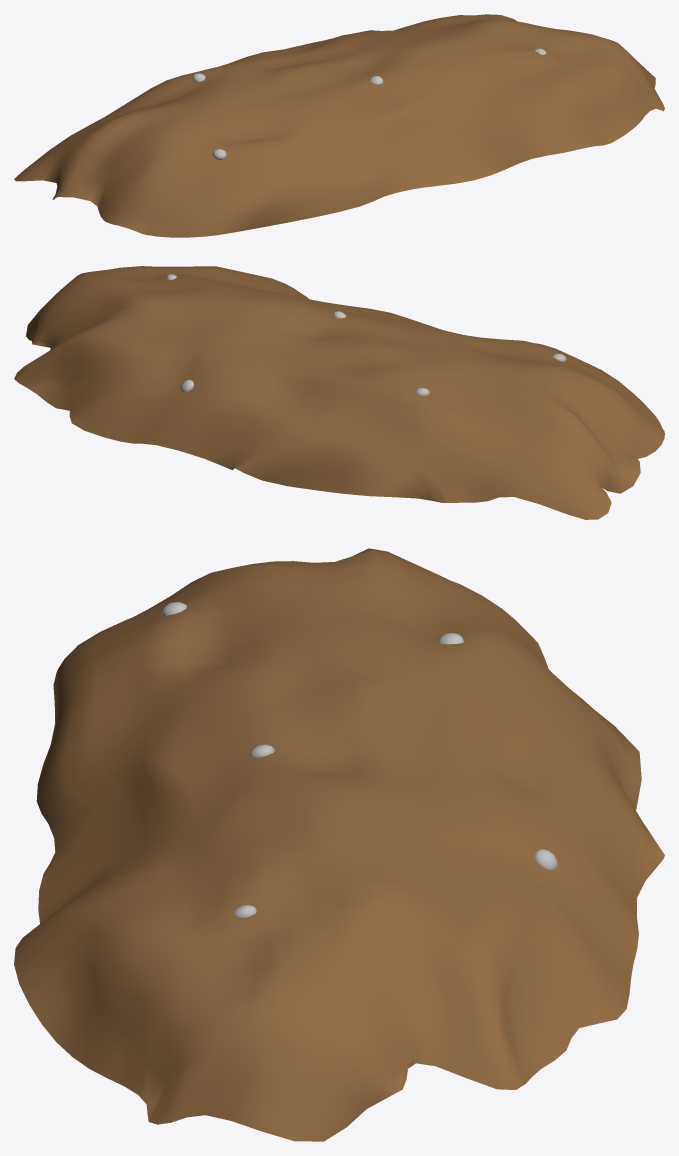
Rendered from MezarTopragi01.fbx.
3 views of the same model, one above another, from view 1: azimuth 30°, elevation 25°; view 2: azimuth 150°, elevation 25°; view 3: azimuth 270°, elevation 25° (orthographic). The views are drawn at different scales.
Parts seen in each view (by area): view 1: MezarTopragı01; view 2: MezarTopragı01; view 3: MezarTopragı01.
Part boxes in pixels (bbox=[...]): MezarTopragı01: bbox=[14, 14, 664, 237]; MezarTopragı01: bbox=[14, 266, 664, 519]; MezarTopragı01: bbox=[14, 548, 664, 1141].
Size of the model in its own units: 165 by 21.86 by 84.76.
